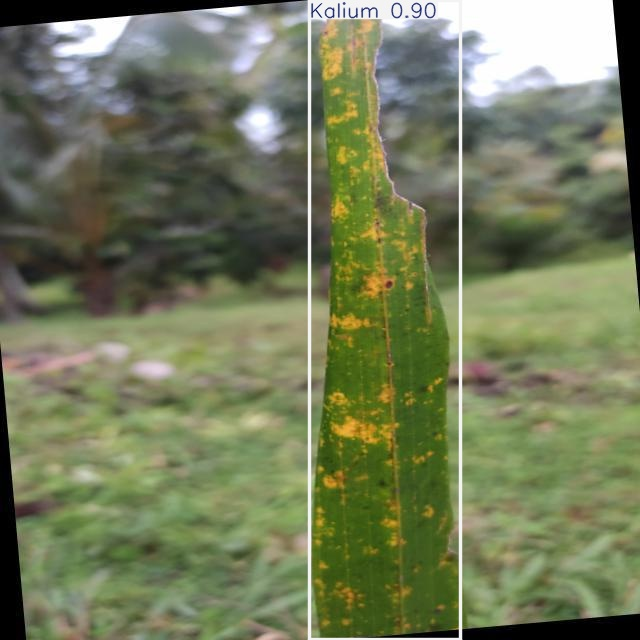Kalium: (310, 0, 461, 640)
